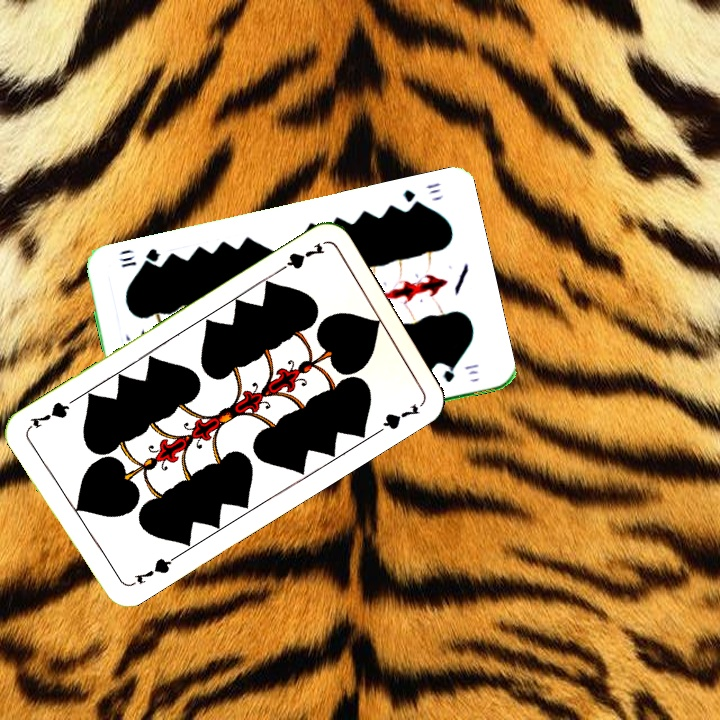G10: (399, 179, 443, 211)
G7: (271, 238, 327, 277), (124, 552, 178, 590)
